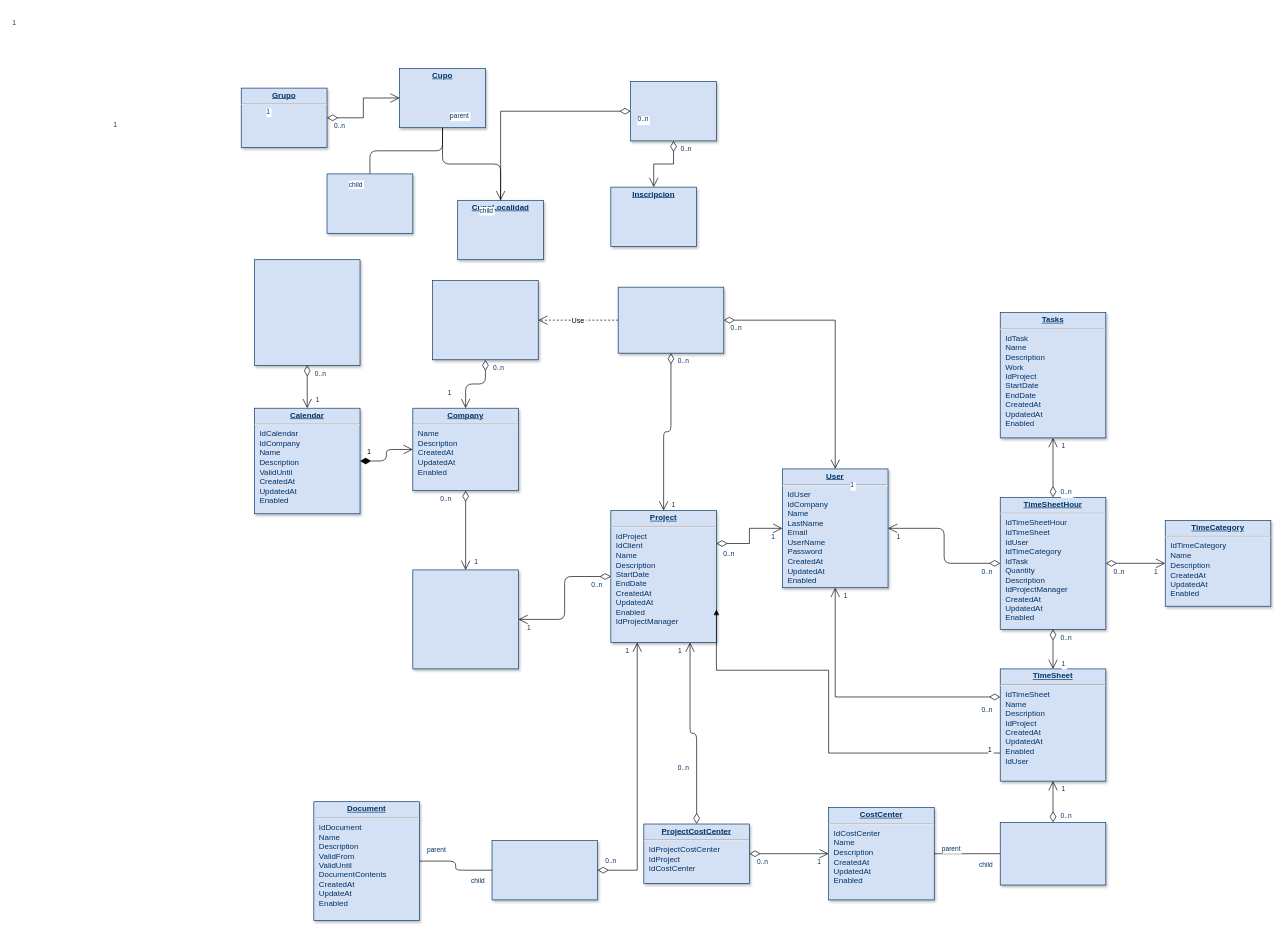
The diagram is 1286 pixels wide and 937 high, and some of its shapes have lost their labels. Here are the shapes that lost their labels. From the top down, the centre of each, then its label:
At (673,112): "Localidad".
At (370,204): "CupoTotal".
At (307,313): "Holiday IdHoliday IdCalendar Name Description Date CreatedAt UpdatedAt Enabled".
At (485,320): "Role IdCompany Name Description CreatedAt UpdatedAt Enabled".
At (671,321): "UserProjectRole IdUserProjectRole IdRole IdProject IdUser".
At (466,620): "Client IdClient IdCompany Name Description CreatedAt UpdatedAt Enabled".
At (545,871): "ProjectDocument IdProjectDocument IdProject IdDocument".
At (1053,854): "TimeSheetCostCenter IdTimeSheetCostCenter IdTimeSheet IdCostCenter".
